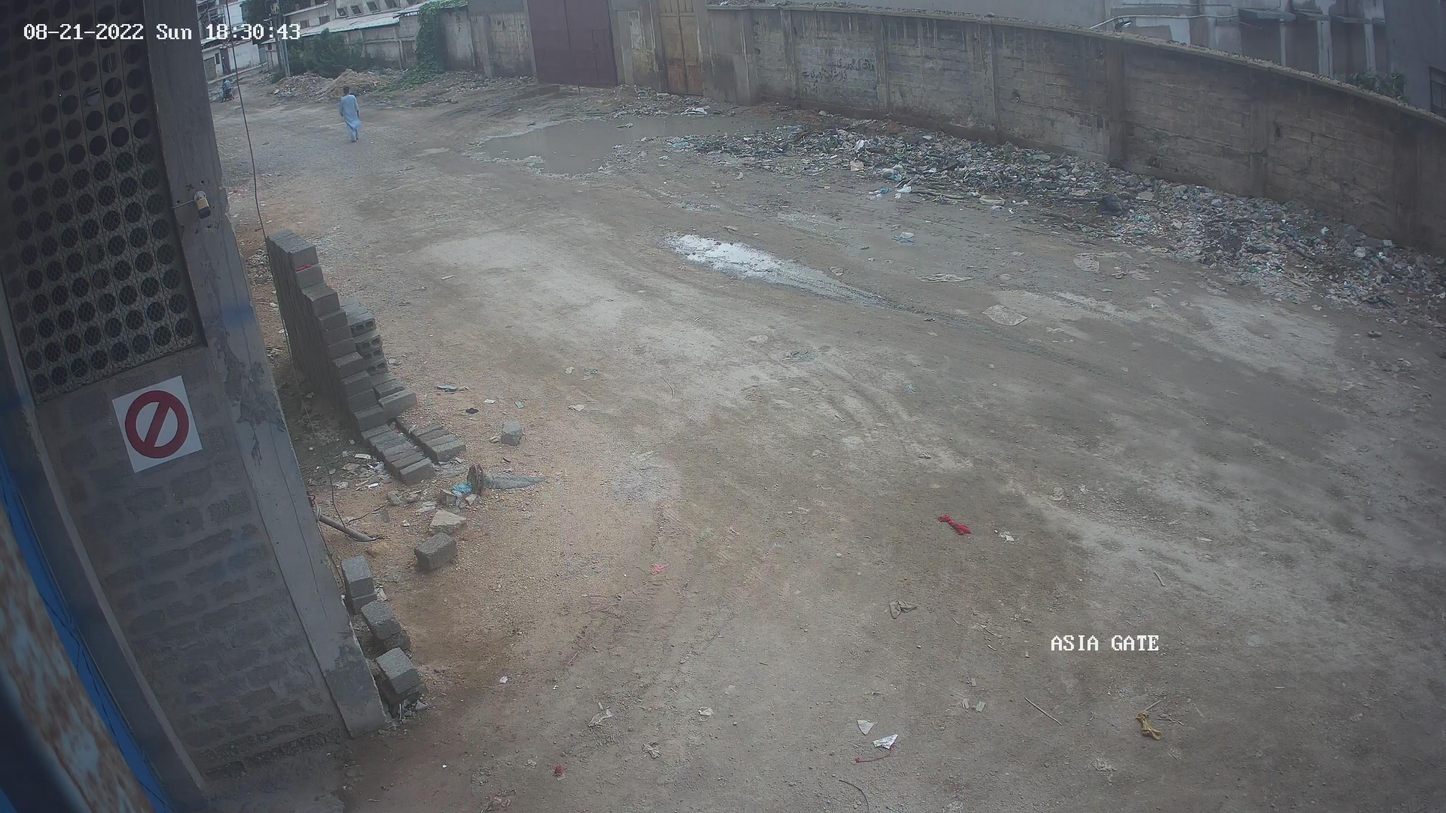person: (334, 79, 372, 152)
